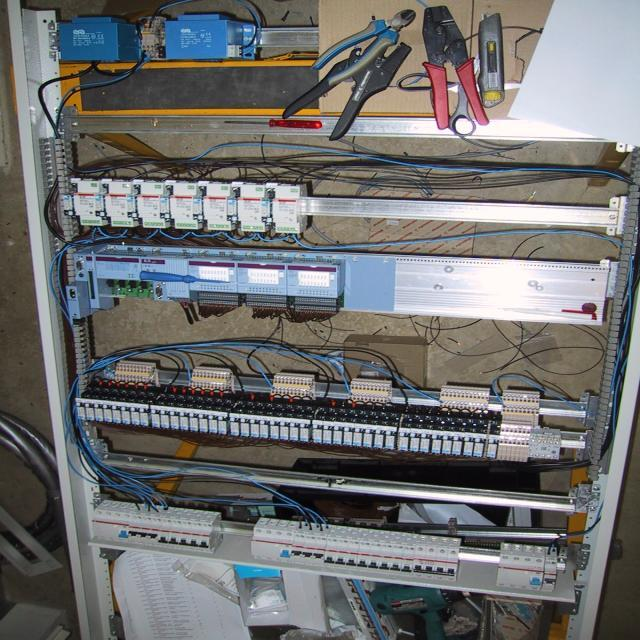Dimmer: (272, 184, 304, 234), (203, 183, 233, 231), (137, 183, 168, 228), (237, 184, 266, 231), (73, 180, 103, 225), (169, 183, 198, 229), (105, 182, 133, 227)
FI: (496, 543, 546, 591), (251, 516, 299, 563), (92, 499, 141, 543)
Klemmenleiste: (497, 419, 532, 463), (439, 385, 492, 410), (502, 390, 539, 425), (187, 365, 232, 391), (349, 378, 393, 403), (271, 372, 315, 397), (113, 360, 155, 383)
Relais: (473, 434, 487, 457), (487, 435, 499, 457), (420, 429, 431, 452), (463, 433, 474, 456), (169, 407, 180, 429), (399, 428, 410, 450), (409, 429, 420, 451), (452, 432, 463, 454), (230, 413, 240, 436), (240, 414, 250, 437), (353, 424, 363, 447), (442, 431, 452, 454), (62, 194, 75, 211), (130, 403, 140, 425), (160, 406, 170, 428), (189, 409, 199, 431), (199, 410, 209, 432), (208, 411, 218, 433), (218, 412, 228, 434), (250, 415, 260, 437), (374, 426, 384, 448), (432, 431, 442, 453), (93, 400, 103, 421), (102, 401, 112, 422), (112, 402, 122, 423), (121, 403, 131, 424), (139, 405, 149, 426), (76, 398, 85, 420), (85, 399, 94, 421), (151, 405, 160, 427), (260, 416, 269, 438), (280, 418, 289, 440), (290, 419, 299, 441), (313, 421, 322, 443), (323, 422, 332, 444), (344, 423, 353, 445), (364, 425, 373, 447), (386, 427, 395, 449), (270, 418, 279, 439), (300, 420, 309, 441), (261, 200, 272, 217), (180, 408, 188, 430), (334, 422, 342, 444), (228, 200, 236, 216), (161, 198, 169, 213), (194, 199, 202, 214), (128, 197, 136, 211), (96, 196, 103, 211)
SPS_System_Steuerungskomponente: (141, 257, 191, 297), (288, 264, 339, 298), (236, 262, 287, 295), (189, 260, 237, 293), (96, 253, 142, 281)
Sicherungen_230V: (155, 507, 181, 548), (197, 511, 221, 553), (167, 508, 191, 549), (187, 510, 210, 552), (138, 505, 161, 546), (177, 509, 200, 550), (148, 507, 171, 546), (290, 522, 311, 564), (301, 523, 321, 566), (323, 525, 343, 568), (334, 526, 354, 569), (128, 504, 149, 544), (312, 524, 332, 566), (389, 532, 408, 574), (368, 530, 386, 574), (434, 537, 452, 581), (346, 527, 364, 570), (357, 529, 375, 572), (378, 531, 396, 574), (401, 533, 419, 575), (423, 536, 440, 580), (445, 538, 461, 582), (413, 535, 429, 578), (542, 547, 557, 592)
